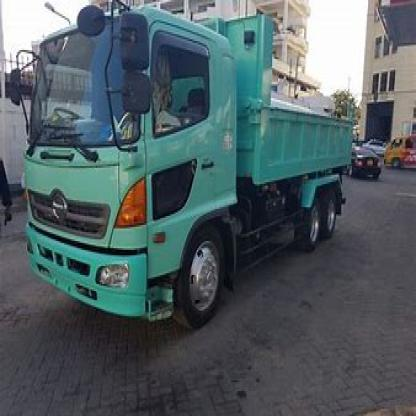dump_truck: (22, 14, 352, 332)
